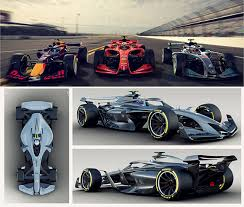f1_car: (75, 89, 239, 145), (74, 150, 240, 203), (9, 93, 64, 200), (5, 35, 91, 83), (158, 36, 241, 83), (92, 31, 162, 79)
